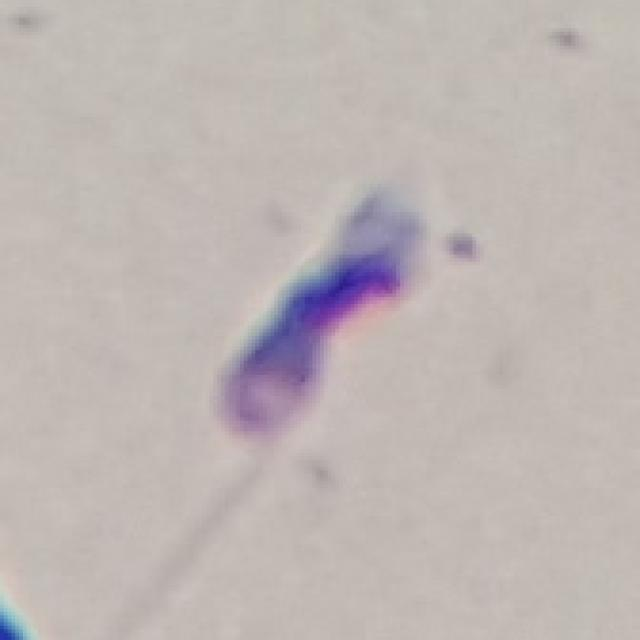abnormal sperm: (101, 189, 465, 622)
